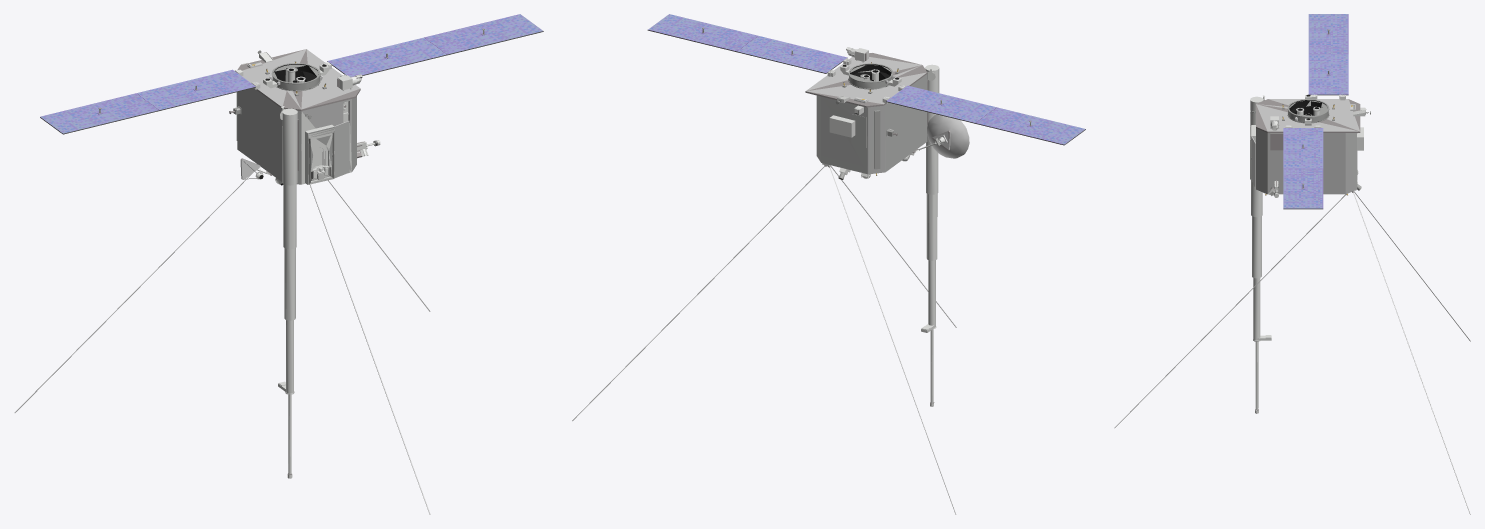
The model's file is stereo.glb.
3 renders of one model, left to right at view 1: azimuth 30°, elevation 25°; view 2: azimuth 150°, elevation 25°; view 3: azimuth 270°, elevation 25°, orthographic. The views are drawn at different scales.
Parts seen in each view (by area): view 1: body, solar-panel; view 2: body, solar-panel; view 3: body, solar-panel.
Part boxes in pixels (x1=…): body: x1=14, y1=28, x2=484, y2=514; solar-panel: x1=40, y1=14, x2=543, y2=134; body: x1=572, y1=27, x2=1031, y2=514; solar-panel: x1=647, y1=14, x2=1085, y2=145; body: x1=1114, y1=29, x2=1470, y2=514; solar-panel: x1=1283, y1=14, x2=1348, y2=209.
Bounding box in the file's own units: 3142 × 2425 × 2434.
